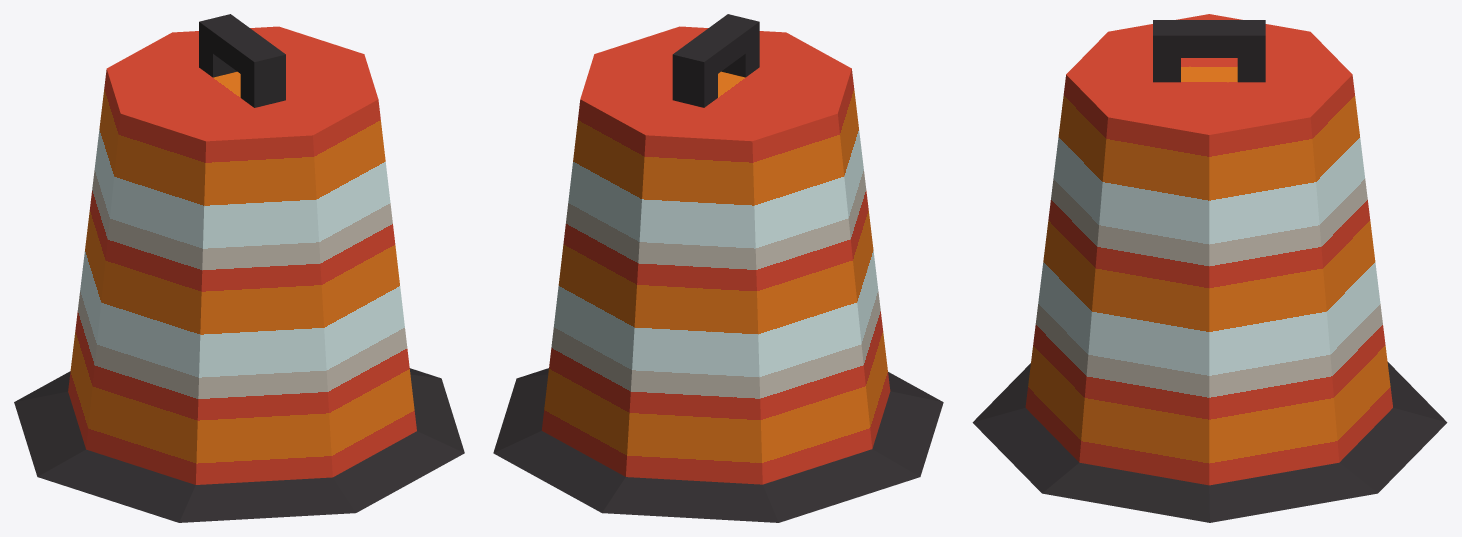
Rendered from TrafficCone.fbx.
The picture shows the model from 3 angles, left to right: view 1: azimuth 30°, elevation 25°; view 2: azimuth 150°, elevation 25°; view 3: azimuth 270°, elevation 25°; orthographic projection.
Visible parts, largest first — view 1: Cone; view 2: Cone; view 3: Cone.
Part boxes in pixels (left/top/right/bottom): Cone: left=14, top=14, right=464, bottom=522; Cone: left=493, top=14, right=943, bottom=522; Cone: left=972, top=14, right=1447, bottom=522.
Size of the model in its own units: 258 by 238 by 258.
Materials: 1 (1 with a texture image).
